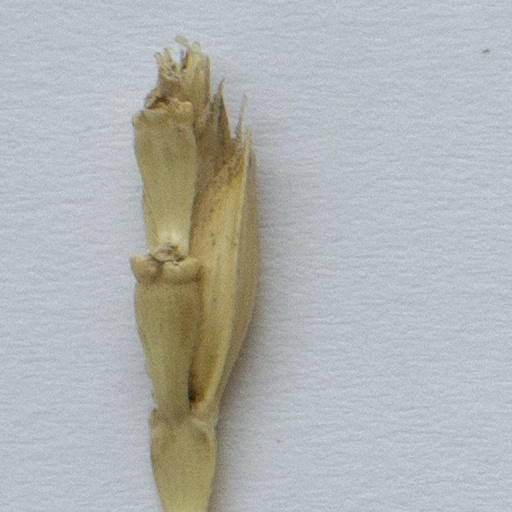Peel-poly: (134, 42, 256, 511)
